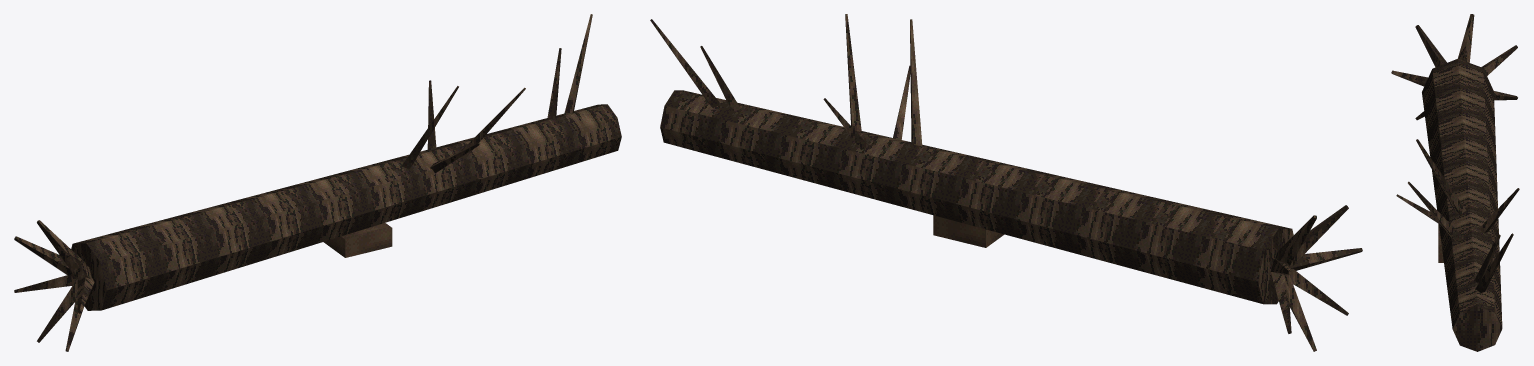
The model's file is arbol_caido.obj.
3 renders of one model, left to right at view 1: azimuth 30°, elevation 25°; view 2: azimuth 150°, elevation 25°; view 3: azimuth 270°, elevation 25°, orthographic. The views are drawn at different scales.
Parts seen in each view (by area): view 1: arbol_caido; view 2: arbol_caido; view 3: arbol_caido.
Boxes of the visible parts, left/top/right/bottom form: arbol_caido: left=14, top=14, right=621, bottom=351; arbol_caido: left=650, top=14, right=1362, bottom=351; arbol_caido: left=1391, top=14, right=1519, bottom=351.
Bounding box in the file's own units: 9.77 × 2.95 × 1.96.
2 materials, 2 textured.
